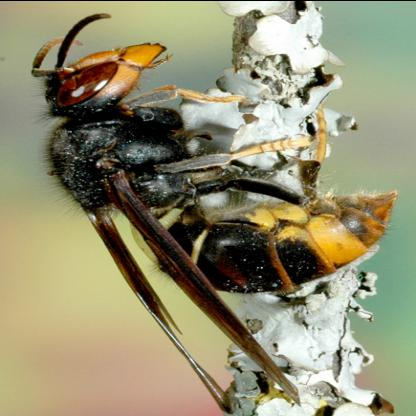asian: (24, 16, 412, 376)
